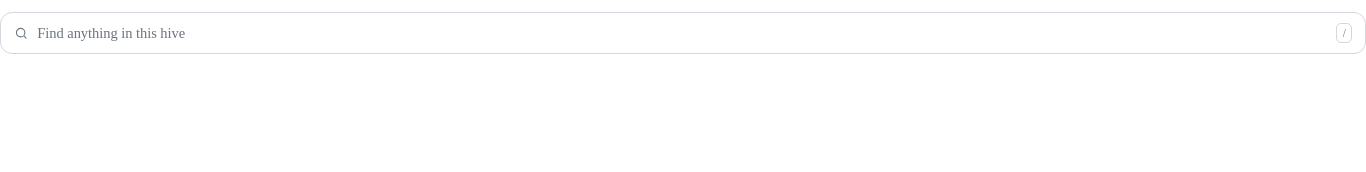
Test case: HiveOmni (find only) › opens to one line and no answers, question history or suggestions
Focus the dropdown: point(682, 33) top-left (37, 13), bottom-right (1327, 53)
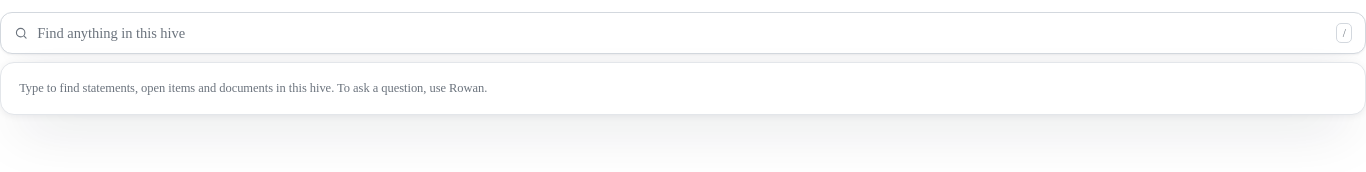
Now the text with test id "omni-empty" shows "Type to find statements, open items and documents in this hive. To ask a question, use Rowan.", box top-left (19, 81), bottom-right (487, 95)
